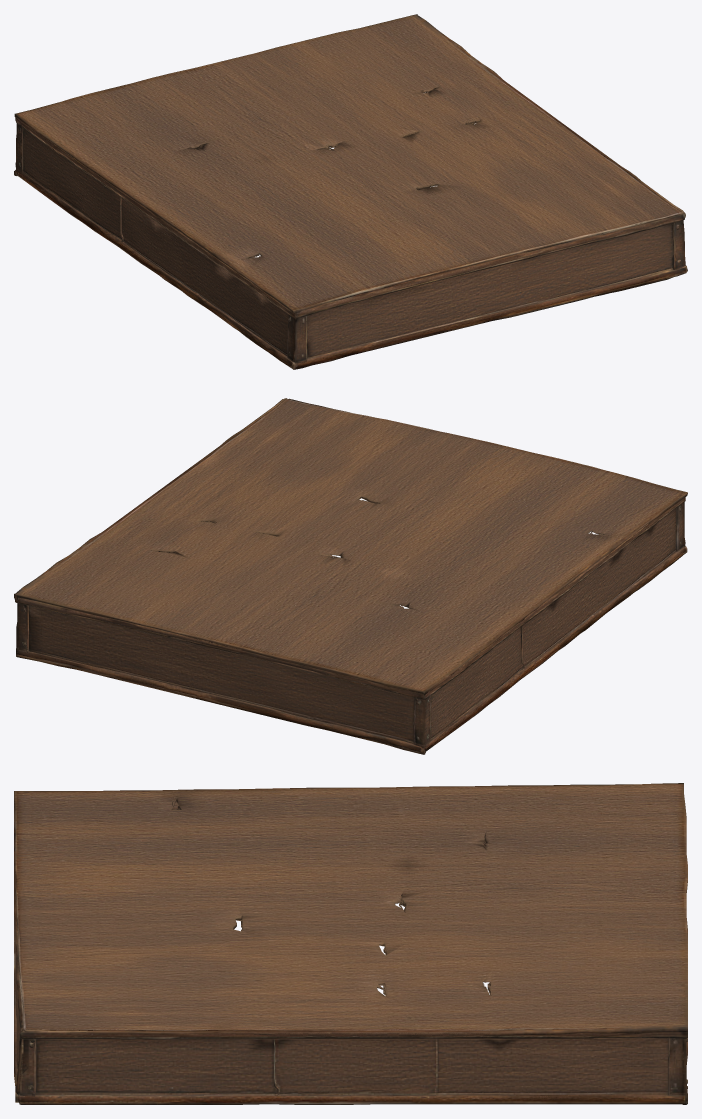
File: theme-stage-deck-v06.glb
3 views of the same model, one above another, from view 1: azimuth 30°, elevation 25°; view 2: azimuth 150°, elevation 25°; view 3: azimuth 270°, elevation 25° (orthographic). The views are drawn at different scales.
Visible parts, largest first — view 1: tripo_node_b2121cf7-616b-49a5-8170-92010cf596e2; view 2: tripo_node_b2121cf7-616b-49a5-8170-92010cf596e2; view 3: tripo_node_b2121cf7-616b-49a5-8170-92010cf596e2.
Boxes of the visible parts, x1,y1,x2,y2 form: tripo_node_b2121cf7-616b-49a5-8170-92010cf596e2: (14,14,687,369); tripo_node_b2121cf7-616b-49a5-8170-92010cf596e2: (14,398,687,754); tripo_node_b2121cf7-616b-49a5-8170-92010cf596e2: (14,783,687,1104).
Bounding box in the file's own units: 2.96 × 0.45 × 3.43.
1 material, 1 textured.
